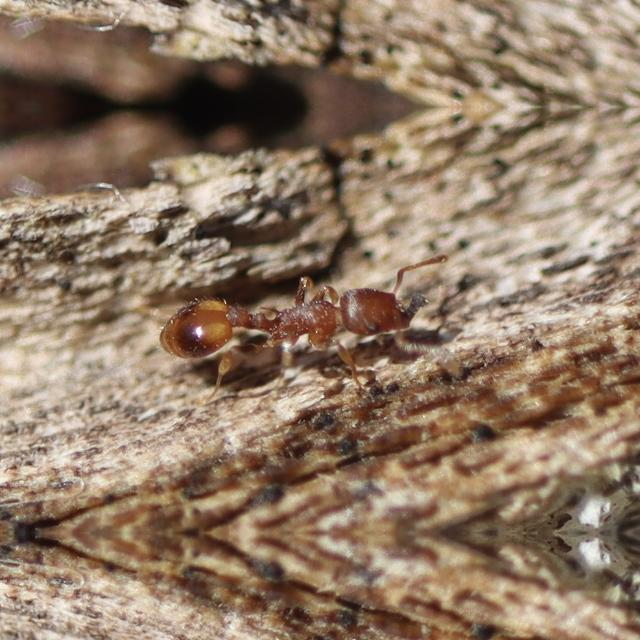Temnothorax: (145, 246, 447, 399)
